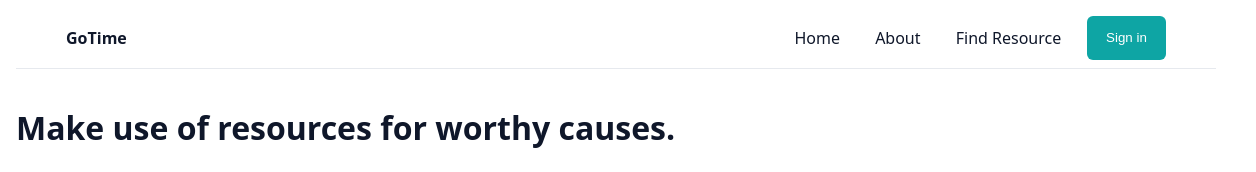
Test case: App › sign in popover opens when clicking Sign in
Click the button "Sign in" at (1126, 38), box [1096, 23, 1156, 53]
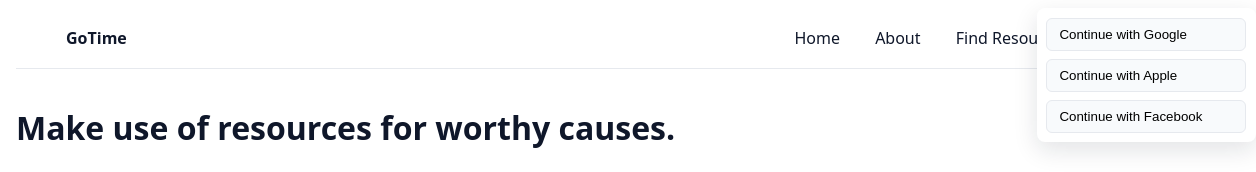
Result: the button "Continue with Google" is shown at [1046, 18, 1246, 51]
Result: the button "Continue with Apple" is shown at [1046, 59, 1246, 92]
Result: the button "Continue with Facebook" is shown at [1046, 100, 1246, 133]
